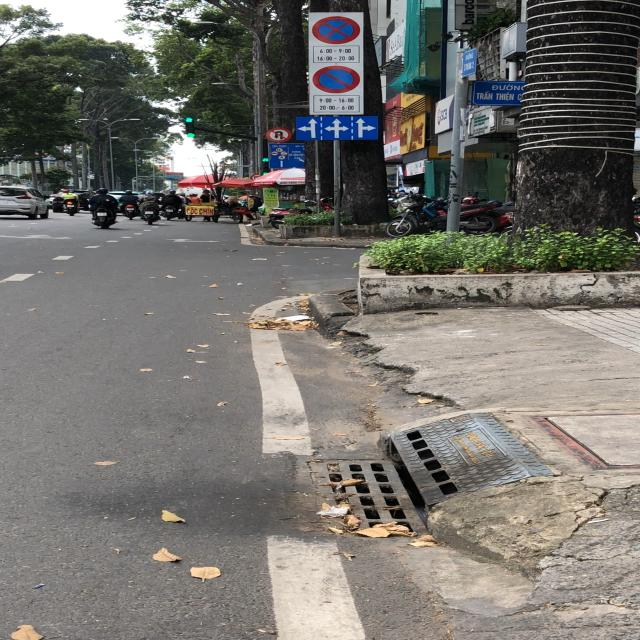Bien bao cam do xe: (308, 65, 366, 97)
Bien bao cam dung xe va do xe: (305, 12, 368, 46)
Bien bao cam quay dau xe: (264, 124, 297, 144)
